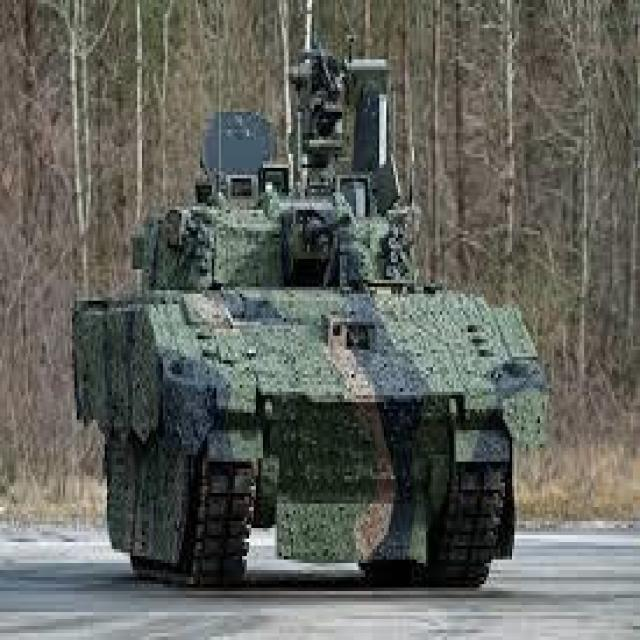MIL_MBT: (80, 24, 548, 605)
